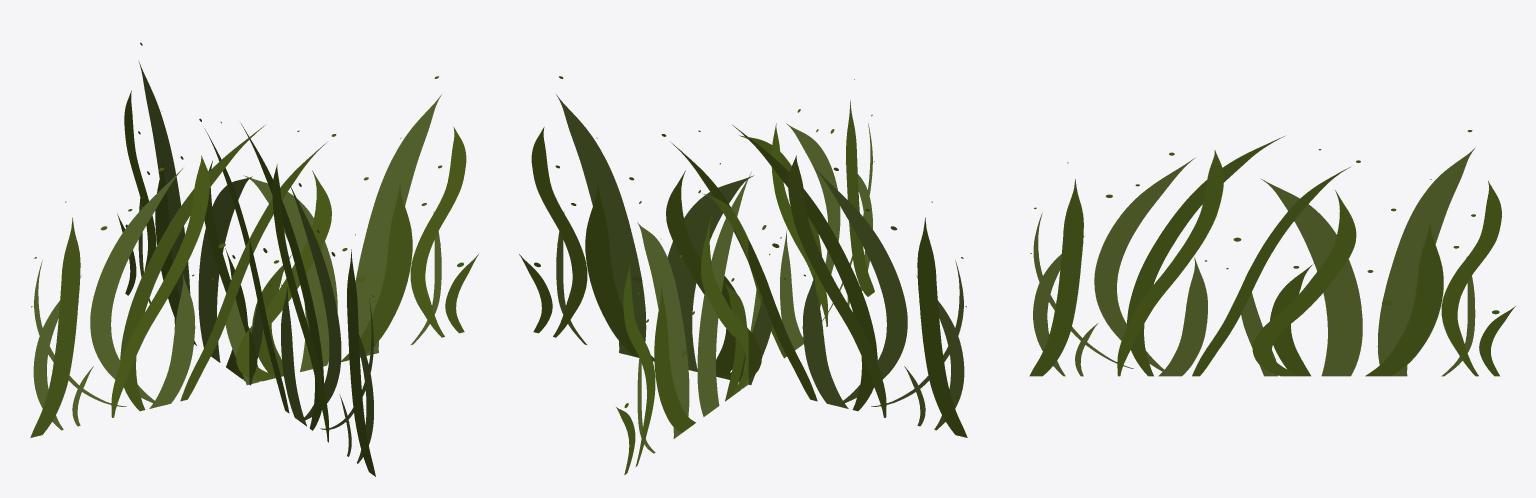
File: grama.fbx
The picture shows the model from 3 angles, left to right: view 1: azimuth 30°, elevation 25°; view 2: azimuth 150°, elevation 25°; view 3: azimuth 270°, elevation 25°; orthographic projection. The views are drawn at different scales.
Visible parts, largest first — view 1: Plane.001; view 2: Plane.001; view 3: Plane.001.
Part boxes in pixels (x1,y1,x2,y2): Plane.001: (30,42,478,476); Plane.001: (519,76,967,474); Plane.001: (1029,130,1515,376).
Bounding box in the file's own units: 200 × 110 × 200.
